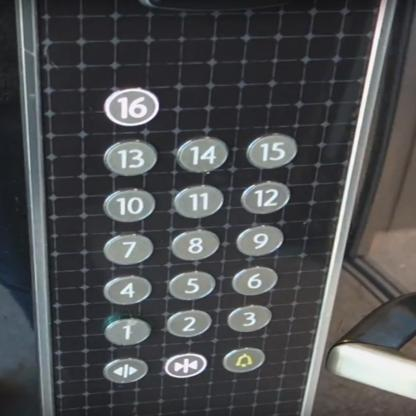1: (101, 317, 152, 347)
10: (101, 186, 154, 223)
11: (172, 184, 224, 219)
12: (239, 179, 291, 214)
13: (104, 138, 159, 176)
14: (174, 136, 230, 174)
15: (244, 132, 299, 170)
16: (103, 86, 159, 127)
2: (165, 310, 213, 337)
3: (226, 304, 272, 332)
4: (101, 274, 152, 306)
5: (168, 270, 217, 300)
6: (231, 265, 278, 296)
7: (101, 232, 153, 266)
8: (170, 228, 220, 261)
9: (234, 224, 284, 256)
alarm: (222, 347, 265, 373)
close: (162, 352, 207, 378)
open: (100, 357, 149, 384)
